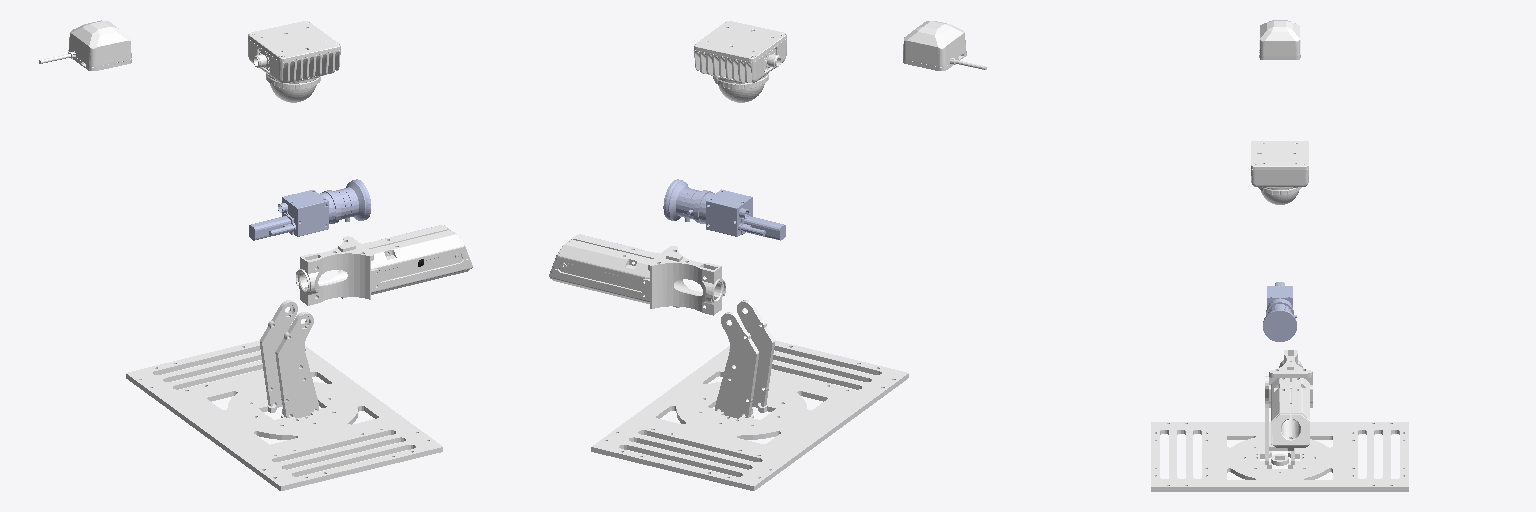
The robot description file, URDF, robot "sentry_description":
<?xml version="1.0" encoding="utf-8"?>
<!-- This URDF was automatically created by SolidWorks to URDF Exporter! Originally created by [author] ([email redacted]) 
     Commit Version: 1.6.0-4-g7f85cfe  Build Version: 1.6.7995.38578
     For more information, please see http://wiki.ros.org/sw_urdf_exporter -->
<robot
  name="sentry_description">
  <link
    name="base_link">
    <inertial>
      <origin
        xyz="4.11694385715622E-19 -2.45826406736235E-19 -0.0025"
        rpy="0 0 0" />
      <mass
        value="0.0010707963267949" />
      <inertia
        ixx="3.73340671840284E-08"
        ixy="-9.13030931061204E-26"
        ixz="-1.0097419586829E-25"
        iyy="3.73340671840284E-08"
        iyz="-1.41172157875717E-26"
        izz="7.02064830064114E-08" />
    </inertial>
    <visual>
      <origin
        xyz="0 0 0"
        rpy="0 0 0" />
      <geometry>
        <mesh
          filename="package://sentry_description/meshes/base_link.STL" />
      </geometry>
      <material
        name="">
        <color
          rgba="1 1 1 1" />
      </material>
    </visual>
    <collision>
      <origin
        xyz="0 0 0"
        rpy="0 0 0" />
      <geometry>
        <mesh
          filename="package://sentry_description/meshes/base_link.STL" />
      </geometry>
    </collision>
  </link>
  <link
    name="gimbal_odom">
    <inertial>
      <origin
        xyz="-6.12065439909753E-15 2.32807492375395E-17 -0.129499999999999"
        rpy="0 0 0" />
      <mass
        value="0.0010707963267949" />
      <inertia
        ixx="3.73340671840284E-08"
        ixy="-9.13030931061204E-26"
        ixz="-1.0097419586829E-25"
        iyy="3.73340671840284E-08"
        iyz="-1.41172157875716E-26"
        izz="7.02064830064114E-08" />
    </inertial>
    <visual>
      <origin
        xyz="0 0 0"
        rpy="0 0 0" />
      <geometry>
        <mesh
          filename="package://sentry_description/meshes/gimbal_odom.STL" />
      </geometry>
      <material
        name="">
        <color
          rgba="1 1 1 1" />
      </material>
    </visual>
    <collision>
      <origin
        xyz="0 0 0"
        rpy="0 0 0" />
      <geometry>
        <mesh
          filename="package://sentry_description/meshes/gimbal_odom.STL" />
      </geometry>
    </collision>
  </link>
  <joint
    name="gimbal_odom"
    type="fixed">
    <origin
      xyz="0 0 0.126999999999999"
      rpy="0 0 0" />
    <parent
      link="base_link" />
    <child
      link="gimbal_odom" />
    <axis
      xyz="0 0 0" />
  </joint>
  <link
    name="yaw_link">
    <inertial>
      <origin
        xyz="-0.000216553753372832 -0.00305177765733467 0.0466455908662492"
        rpy="0 0 0" />
      <mass
        value="0.276031013368711" />
      <inertia
        ixx="0.000760566810214692"
        ixy="-8.0376384210343E-20"
        ixz="-6.57046229514809E-07"
        iyy="0.000709531205136562"
        iyz="7.13972218835062E-19"
        izz="0.000290695981934138" />
    </inertial>
    <visual>
      <origin
        xyz="0 0 0"
        rpy="0 0 0" />
      <geometry>
        <mesh
          filename="package://sentry_description/meshes/yaw_link.STL" />
      </geometry>
      <material
        name="">
        <color
          rgba="1 1 1 1" />
      </material>
    </visual>
    <collision>
      <origin
        xyz="0 0 0"
        rpy="0 0 0" />
      <geometry>
        <mesh
          filename="package://sentry_description/meshes/yaw_link.STL" />
      </geometry>
    </collision>
  </link>
  <joint
    name="yaw_joint"
    type="fixed">
    <origin
      xyz="0 0 0"
      rpy="0 0 0" />
    <parent
      link="base_link" />
    <child
      link="yaw_link" />
    <axis
      xyz="0 0 -1" />
  </joint>
  <link
    name="pitch_link">
    <inertial>
      <origin
        xyz="-0.00304877466356313 0.0010462736737472 -0.0113174725757146"
        rpy="0 0 0" />
      <mass
        value="0.341175394777573" />
      <inertia
        ixx="0.00052441525100132"
        ixy="1.31377746844168E-05"
        ixz="2.47760321915765E-13"
        iyy="0.00191835384034893"
        iyz="-1.36588502573607E-13"
        izz="0.00244164865042018" />
    </inertial>
    <visual>
      <origin
        xyz="0 0 0"
        rpy="0 0 0" />
      <geometry>
        <mesh
          filename="package://sentry_description/meshes/pitch_link.STL" />
      </geometry>
      <material
        name="">
        <color
          rgba="1 1 1 1" />
      </material>
    </visual>
    <collision>
      <origin
        xyz="0 0 0"
        rpy="0 0 0" />
      <geometry>
        <mesh
          filename="package://sentry_description/meshes/pitch_link.STL" />
      </geometry>
    </collision>
  </link>
  <joint
    name="pitch_joint"
    type="fixed">
    <origin
      xyz="0 0 0.127"
      rpy="0 0 0" />
    <parent
      link="yaw_link" />
    <child
      link="pitch_link" />
    <axis
      xyz="0 1 0" />
    <limit
      lower="-1"
      upper="1"
      effort="0"
      velocity="0" />
  </joint>
  <link
    name="shoot_link">
    <inertial>
      <origin
        xyz="0.00985194689513733 9.82654510857194E-07 0.0016574569586259"
        rpy="0 0 0" />
      <mass
        value="0.0928728902238975" />
      <inertia
        ixx="2.08314627401099E-05"
        ixy="-5.2831128565155E-09"
        ixz="-1.93203006468337E-06"
        iyy="9.99492071094136E-05"
        iyz="-2.4171828899925E-09"
        izz="0.000103188750115185" />
    </inertial>
    <visual>
      <origin
        xyz="0 0 0"
        rpy="0 0 0" />
      <geometry>
        <mesh
          filename="package://sentry_description/meshes/shoot_link.STL" />
      </geometry>
      <material
        name="">
        <color
          rgba="0.203921568627451 0.203921568627451 0.203921568627451 1" />
      </material>
    </visual>
    <collision>
      <origin
        xyz="0 0 0"
        rpy="0 0 0" />
      <geometry>
        <mesh
          filename="package://sentry_description/meshes/shoot_link.STL" />
      </geometry>
    </collision>
  </link>
  <joint
    name="shoot_joint"
    type="fixed">
    <origin
      xyz="0.13275000006729 0 -0.000550000024367947"
      rpy="0 0 0" />
    <parent
      link="pitch_link" />
    <child
      link="shoot_link" />
    <axis
      xyz="0 0 0" />
  </joint>
  <link
    name="camera_link">
    <inertial>
      <origin
        xyz="-2.67877147618556E-05 0.000735839172751995 -0.0294976194445128"
        rpy="0 0 0" />
      <mass
        value="0.0648851430026763" />
      <inertia
        ixx="5.47210807668052E-05"
        ixy="-7.21013803008581E-09"
        ixz="-3.15564383658102E-08"
        iyy="5.44992291498232E-05"
        iyz="2.23463410629662E-06"
        izz="7.99646847842015E-06" />
    </inertial>
    <visual>
      <origin
        xyz="0 0 0"
        rpy="0 0 0" />
      <geometry>
        <mesh
          filename="package://sentry_description/meshes/camera_link.STL" />
      </geometry>
      <material
        name="">
        <color
          rgba="0.792156862745098 0.819607843137255 0.933333333333333 1" />
      </material>
    </visual>
    <collision>
      <origin
        xyz="0 0 0"
        rpy="0 0 0" />
      <geometry>
        <mesh
          filename="package://sentry_description/meshes/camera_link.STL" />
      </geometry>
    </collision>
  </link>
  <joint
    name="camera_joint"
    type="fixed">
    <origin
      xyz="0.0718000000091155 0 0.0714999999908555"
      rpy="-1.57079632692236 0 -1.5707963267949" />
    <parent
      link="pitch_link" />
    <child
      link="camera_link" />
    <axis
      xyz="0 0 0" />
  </joint>
  <link
    name="lidar_link">
    <inertial>
      <origin
        xyz="-2.40440474503009E-08 -6.03408791058963E-10 0.232360110924128"
        rpy="0 0 0" />
      <mass
        value="1451.08250399175" />
      <inertia
        ixx="355.62989343497"
        ixy="-0.00015195111673779"
        ixz="8.12420215047547E-07"
        iyy="367.955003943991"
        iyz="-6.64827051749432E-10"
        izz="619.415828371799" />
    </inertial>
    <visual>
      <origin
        xyz="0 0 0"
        rpy="0 0 0" />
      <geometry>
        <mesh
          filename="package://sentry_description/meshes/lidar_link.STL" />
      </geometry>
      <material
        name="">
        <color
          rgba="1 1 1 1" />
      </material>
    </visual>
    <collision>
      <origin
        xyz="0 0 0"
        rpy="0 0 0" />
      <geometry>
        <mesh
          filename="package://sentry_description/meshes/lidar_link.STL" />
      </geometry>
    </collision>
  </link>
  <joint
    name="lidar_joint"
    type="fixed">
    <origin
      xyz="0 0 0.316500899999999"
      rpy="-3.14159265358979 0 0" />
    <parent
      link="yaw_link" />
    <child
      link="lidar_link" />
    <axis
      xyz="0 0 0" />
  </joint>
  <link
    name="usb_camera_a_link">
    <inertial>
      <origin
        xyz="-1.52655665885959E-16 1.11022302462516E-16 -0.023486258806597"
        rpy="0 0 0" />
      <mass
        value="0.0209680954460364" />
      <inertia
        ixx="3.22991901482017E-06"
        ixy="5.82369786341668E-22"
        ixz="-5.29395592033938E-22"
        iyy="3.22991901482017E-06"
        iyz="-7.67586761100434E-23"
        izz="4.00080655952044E-06" />
    </inertial>
    <visual>
      <origin
        xyz="0 0 0"
        rpy="0 0 0" />
      <geometry>
        <mesh
          filename="package://sentry_description/meshes/usb_camera_a_link.STL" />
      </geometry>
      <material
        name="">
        <color
          rgba="1 1 1 1" />
      </material>
    </visual>
    <collision>
      <origin
        xyz="0 0 0"
        rpy="0 0 0" />
      <geometry>
        <mesh
          filename="package://sentry_description/meshes/usb_camera_a_link.STL" />
      </geometry>
    </collision>
  </link>
  <joint
    name="usb_camera_a_joint"
    type="fixed">
    <origin
      xyz="-0.0358280058992327 0.124681724007855 0.085966174633034"
      rpy="-1.57079632679489 0 1.0471975511966" />
    <parent
      link="yaw_link" />
    <child
      link="usb_camera_a_link" />
    <axis
      xyz="0 0 0" />
  </joint>
  <link
    name="usb_camera_b_link">
    <inertial>
      <origin
        xyz="-1.38777878078145E-16 2.77555756156289E-17 -0.0234862588065968"
        rpy="0 0 0" />
      <mass
        value="0.0209680954460364" />
      <inertia
        ixx="3.22991901482017E-06"
        ixy="2.90385247773039E-22"
        ixz="-2.64697796016969E-21"
        iyy="3.22991901482017E-06"
        iyz="-2.88272753098681E-23"
        izz="4.00080655952044E-06" />
    </inertial>
    <visual>
      <origin
        xyz="0 0 0"
        rpy="0 0 0" />
      <geometry>
        <mesh
          filename="package://sentry_description/meshes/usb_camera_b_link.STL" />
      </geometry>
      <material
        name="">
        <color
          rgba="1 1 1 1" />
      </material>
    </visual>
    <collision>
      <origin
        xyz="0 0 0"
        rpy="0 0 0" />
      <geometry>
        <mesh
          filename="package://sentry_description/meshes/usb_camera_b_link.STL" />
      </geometry>
    </collision>
  </link>
  <joint
    name="usb_camera_b_joint"
    type="fixed">
    <origin
      xyz="-0.0458280058992335 -0.153681724007852 0.0554999999999989"
      rpy="-1.5707963267949 0 2.09439510239319" />
    <parent
      link="yaw_link" />
    <child
      link="usb_camera_b_link" />
    <axis
      xyz="0 0 0" />
  </joint>

  <link name="imu_link"/>
  <joint name="imu_joint" type="fixed">
    <origin xyz="0 0 0" rpy="3.14 0 0"/>
    <parent
        link="lidar_link" />
      <child
        link="imu_link" />
  </joint>

  <link name="chassis_link"/>
  <joint name="chassis_joint" type="fixed">
    <origin xyz="0 0 0" rpy="0 0 0"/>
    <parent
        link="yaw_link" />
      <child
        link="chassis_link" />
        <axis
      xyz="0 0 -1" />
  </joint>
</robot>

--- Facts derived from the render (not from the file) ---
3 views of the same robot in one strip: view 1: azimuth 30°, elevation 25°; view 2: azimuth 150°, elevation 25°; view 3: azimuth 270°, elevation 25° (orthographic).
Robot: sentry_description — 11 links, 10 joints (10 fixed); root link base_link; default pose: every joint at zero.
Links seen in each view (by area): view 1: yaw_link, pitch_link, lidar_link, camera_link, gimbal_odom; view 2: yaw_link, pitch_link, lidar_link, camera_link, gimbal_odom; view 3: yaw_link, pitch_link, lidar_link, camera_link, gimbal_odom.
Link boxes in pixels (bbox=[...]): yaw_link: bbox=[126, 300, 442, 490]; pitch_link: bbox=[296, 225, 472, 305]; lidar_link: bbox=[248, 21, 340, 102]; camera_link: bbox=[249, 179, 370, 240]; gimbal_odom: bbox=[39, 20, 131, 70]; yaw_link: bbox=[591, 300, 908, 490]; pitch_link: bbox=[549, 234, 725, 315]; lidar_link: bbox=[694, 21, 786, 102]; camera_link: bbox=[663, 179, 785, 240]; gimbal_odom: bbox=[903, 21, 986, 70]; yaw_link: bbox=[1151, 376, 1408, 491]; pitch_link: bbox=[1269, 350, 1312, 450]; lidar_link: bbox=[1251, 141, 1308, 204]; camera_link: bbox=[1263, 282, 1296, 341]; gimbal_odom: bbox=[1259, 20, 1300, 59].
Size in the robot's own frame: 0.4488 by 0.284 by 0.439 metres.
7 mesh visuals loaded from 9 distinct referenced files (7 binary STL); not drawn: 2 (reference not matched to a file when rendering).